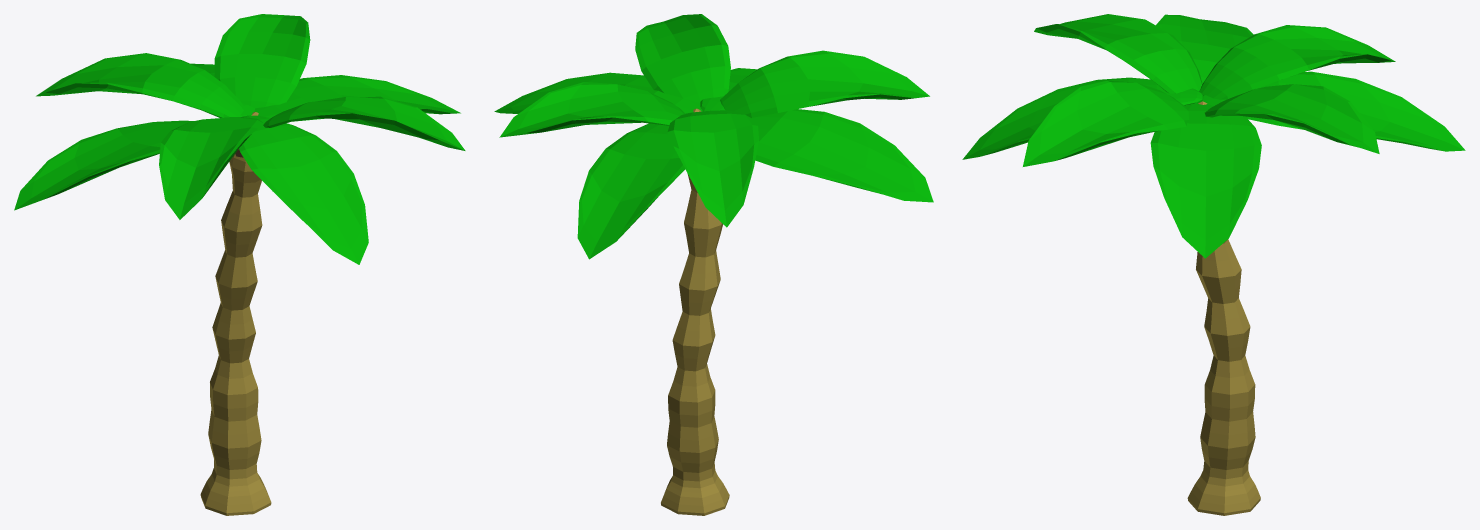
Rendered from пальмочка.fbx.
The picture shows the model from 3 angles, left to right: view 1: azimuth 30°, elevation 25°; view 2: azimuth 150°, elevation 25°; view 3: azimuth 270°, elevation 25°; orthographic projection. The views are drawn at different scales.
Visible parts, largest first — view 1: Cube.007; view 2: Cube.007; view 3: Cube.007.
Boxes of the visible parts, <box> form: Cube.007: <box>14,14,465,515</box>; Cube.007: <box>494,14,933,515</box>; Cube.007: <box>962,14,1465,515</box>.
Bounding box in the file's own units: 830 × 755 × 786.
